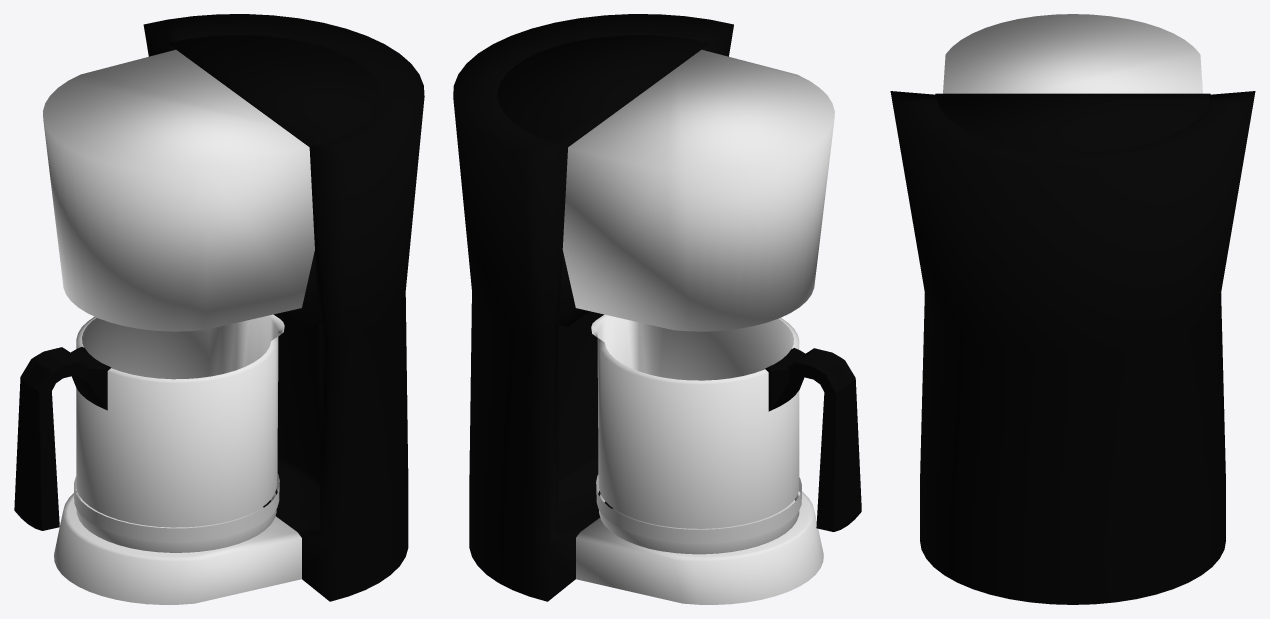
Rendered from kaffemaskinen_325.gltf.
3 renders of one model, left to right at view 1: azimuth 30°, elevation 25°; view 2: azimuth 150°, elevation 25°; view 3: azimuth 270°, elevation 25°, orthographic. The views are drawn at different scales.
Visible parts, largest first — view 1: Mamskine, SoelvTop, Glaskande, Soelbund, Sorthank, Soelvkant; view 2: Mamskine, SoelvTop, Glaskande, Soelbund, Sorthank, Soelvkant; view 3: Mamskine, SoelvTop.
Part boxes in pixels (x1=…): Mamskine: x1=143, y1=14, x2=424, y2=601; SoelvTop: x1=43, y1=49, x2=314, y2=331; Glaskande: x1=76, y1=314, x2=284, y2=552; Soelbund: x1=54, y1=490, x2=301, y2=604; Sorthank: x1=14, y1=347, x2=111, y2=530; Soelvkant: x1=74, y1=473, x2=279, y2=542; Mamskine: x1=453, y1=14, x2=733, y2=601; SoelvTop: x1=562, y1=49, x2=834, y2=331; Glaskande: x1=591, y1=314, x2=799, y2=554; Soelbund: x1=576, y1=491, x2=823, y2=604; Sorthank: x1=765, y1=348, x2=861, y2=531; Soelvkant: x1=596, y1=475, x2=801, y2=543; Mamskine: x1=890, y1=91, x2=1255, y2=604; SoelvTop: x1=943, y1=14, x2=1202, y2=93.
Size of the model in its own units: 2.73 by 3.19 by 2.38.
3 materials, 1 textured.
